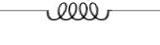inductor: (41, 1, 115, 25)
